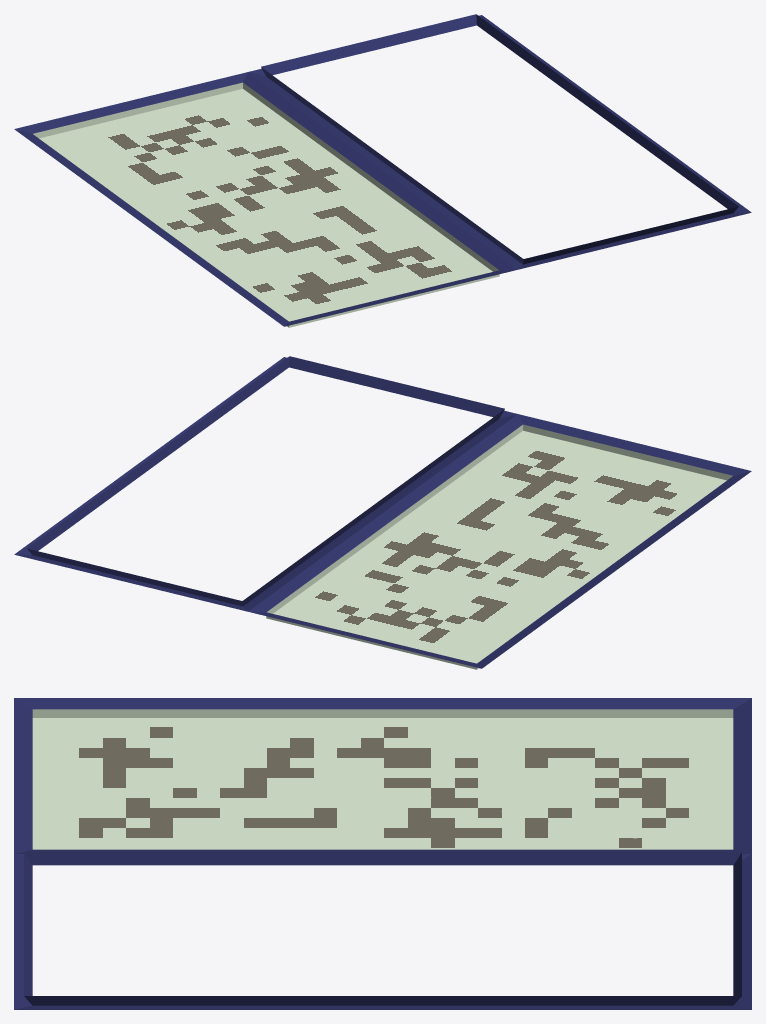
The model's file is drop_ceiling_frame_missing.glb.
3 views of the same model, one above another, from view 1: azimuth 30°, elevation 25°; view 2: azimuth 150°, elevation 25°; view 3: azimuth 270°, elevation 25° (orthographic). The views are drawn at different scales.
Parts seen in each view (by area): view 1: DropCeiling_Missing; view 2: DropCeiling_Missing; view 3: DropCeiling_Missing.
Boxes of the visible parts, box(x1,y1,x2,y2) form: DropCeiling_Missing: box(14, 14, 751, 327); DropCeiling_Missing: box(14, 356, 751, 669); DropCeiling_Missing: box(14, 698, 751, 1009).
Size of the model in its own units: 2 by 0.0595 by 2.
Materials: 1 (1 with a texture image).
